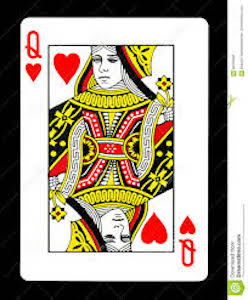QueenOfHearts: (15, 9, 215, 284)
